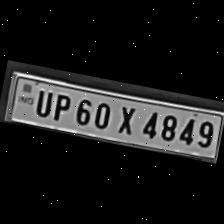0: (90, 97, 116, 130)
4: (136, 106, 162, 140), (176, 113, 198, 146)
6: (69, 93, 94, 126)
8: (155, 109, 180, 143)
9: (192, 116, 217, 150)
P: (47, 89, 73, 123)
U: (31, 86, 54, 119)
X: (111, 102, 141, 138)
